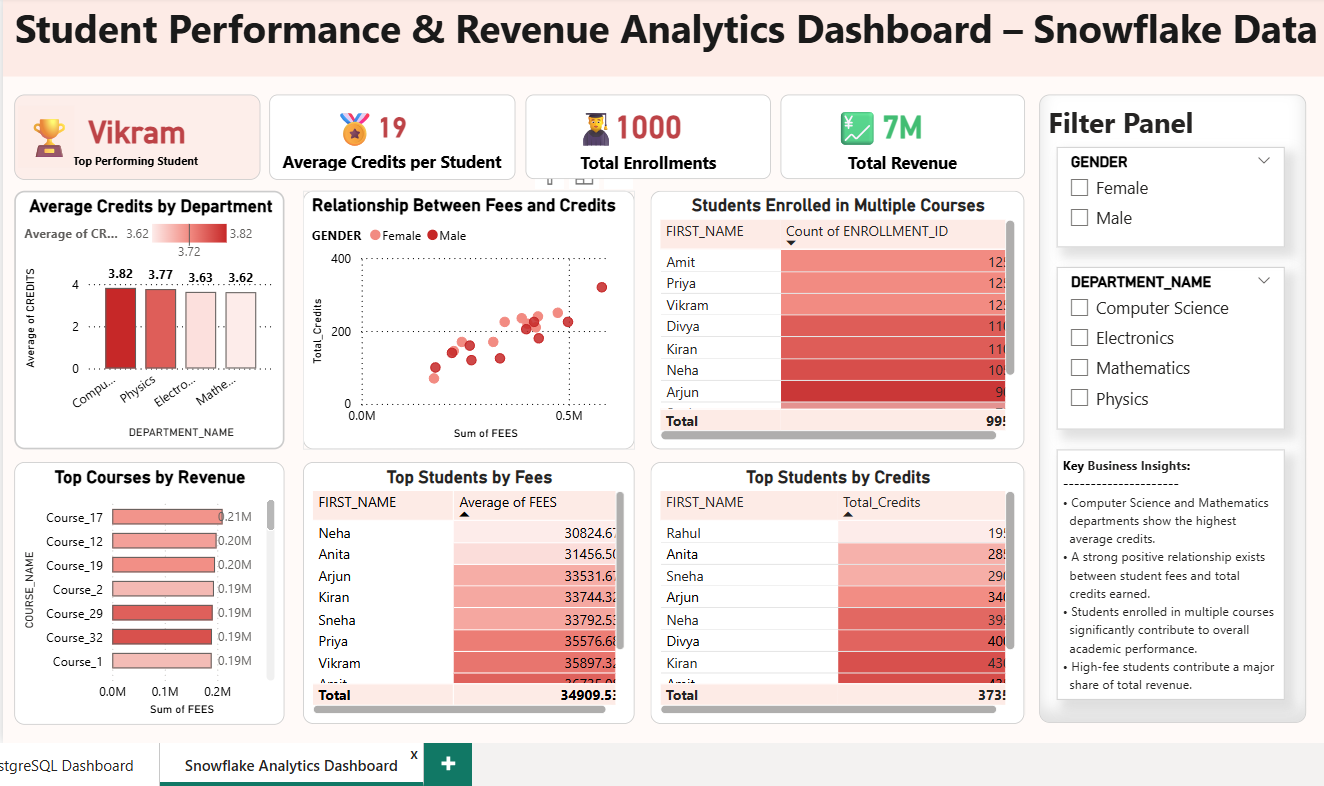

The dashboard page shown, as its layout file describes it:
{"tool":"powerbi","page":{"name":"Snowflake Analytics Dashboard","canvas":[1280,720],"ordinal":1},"visuals":[{"type":"textbox","box":[1000.3,94.7,258,606.5],"z":0},{"type":"clusteredBarChart","title":"Top Courses by Revenue","fields":{"Category":["courses_sf.COURSE_NAME"],"Y":["Sum(students_sf.FEES)"]},"box":[11,448.7,260.7,253.9],"z":1000},{"type":"tableEx","title":"Students Enrolled in Multiple Courses","fields":{"Values":["students_sf.FIRST_NAME","CountNonNull(enrollment_sf.ENROLLMENT_ID)"]},"box":[624.4,186.6,360.9,249.7],"z":2000},{"type":"tableEx","title":"Top Students by Fees","fields":{"Values":["students_sf.FIRST_NAME","Avg(students_sf.FEES)"]},"box":[289.5,448.7,319.7,252.5],"z":3000},{"type":"clusteredColumnChart","title":"Average Credits by Department","fields":{"Category":["departmens_sf.DEPARTMENT_NAME"],"Y":["Avg(courses_sf.CREDITS)"]},"box":[11,186.6,260.7,249.7],"z":4000},{"type":"tableEx","title":"Top Students by Credits","fields":{"Values":["students_sf.FIRST_NAME","courses_sf.Total_Credit"]},"box":[624.4,448.7,360.9,252.5],"z":5000},{"type":"card","title":"Top Student (Highest Credits)","fields":{"Values":["courses_sf.Top Student"]},"box":[11,94.3,237.4,82.3],"z":6000},{"type":"slicer","fields":{"Values":["departmens_sf.DEPARTMENT_NAME"]},"box":[1017.1,260.7,220,157.1],"z":7000},{"type":"textbox","box":[0,0,1280,77.1],"z":8000},{"type":"slicer","fields":{"Values":["students_sf.GENDER"]},"box":[1017.1,144.3,220,97.1],"z":9000},{"type":"textbox","box":[1017.1,437.1,220,241.4],"z":10000},{"type":"scatterChart","title":"Relationship Between Fees and Credits","fields":{"X":["Sum(students_sf.FEES)"],"Y":["courses_sf.Total_Credits"],"Series":["students_sf.GENDER"],"Category":["students_sf.FIRST_NAME"]},"box":[289.5,186.6,319.7,249.7],"z":11000},{"type":"card","fields":{"Values":["courses_sf.Total Revenue"]},"box":[750,94.3,235.7,81.4],"z":12000},{"type":"card","fields":{"Values":["courses_sf.Total Enrollments"]},"box":[503.9,94.3,237.1,81.4],"z":13000},{"type":"textbox","box":[14.2,105,54.2,60],"z":14000},{"type":"textbox","box":[545.8,100,48.3,52.5],"z":15000},{"type":"card","fields":{"Values":["courses_sf.Total Revenue"]},"box":[257.4,94.3,237.5,82.5],"z":17000},{"type":"textbox","box":[312.3,99.5,52.3,52.7],"z":17500},{"type":"textbox","box":[797.5,99.2,49.2,53.3],"z":18001}]}

Visuals, with their boxes on the page's 1280x720 design canvas (x1, y1, x2, y2). These are canvas units, not pixel positions in the 1324x786 screenshot, which may show the page scaled, cropped or inside an application window:
textbox: rect(1000, 95, 1258, 701)
"Top Courses by Revenue" clusteredBarChart: rect(11, 449, 272, 703)
"Students Enrolled in Multiple Courses" tableEx: rect(624, 187, 985, 436)
"Top Students by Fees" tableEx: rect(290, 449, 609, 701)
"Average Credits by Department" clusteredColumnChart: rect(11, 187, 272, 436)
"Top Students by Credits" tableEx: rect(624, 449, 985, 701)
"Top Student (Highest Credits)" card: rect(11, 94, 248, 177)
slicer - departmens_sf.DEPARTMENT_NAME: rect(1017, 261, 1237, 418)
textbox: rect(0, 0, 1280, 77)
slicer - students_sf.GENDER: rect(1017, 144, 1237, 241)
textbox: rect(1017, 437, 1237, 678)
"Relationship Between Fees and Credits" scatterChart: rect(290, 187, 609, 436)
card - courses_sf.Total Revenue: rect(750, 94, 986, 176)
card - courses_sf.Total Enrollments: rect(504, 94, 741, 176)
textbox: rect(14, 105, 68, 165)
textbox: rect(546, 100, 594, 152)
card - courses_sf.Total Revenue: rect(257, 94, 495, 177)
textbox: rect(312, 100, 365, 152)
textbox: rect(798, 99, 847, 152)
